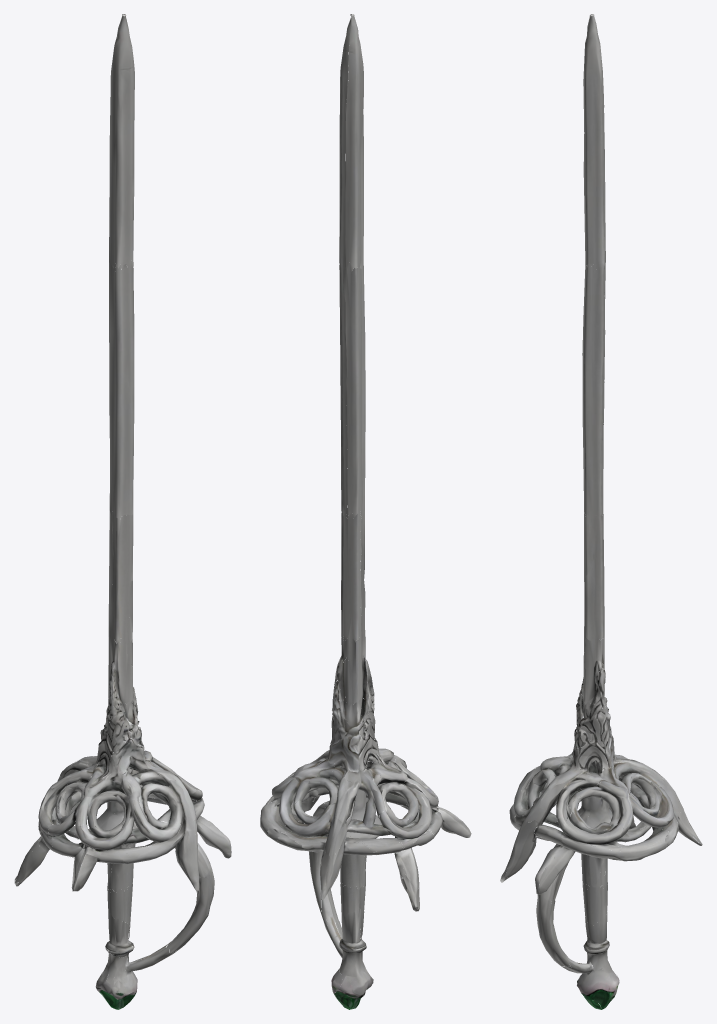
The model's file is MikaGaleRapier_L20.glb.
The picture shows the model from 3 angles, left to right: view 1: azimuth 30°, elevation 25°; view 2: azimuth 150°, elevation 25°; view 3: azimuth 270°, elevation 25°; orthographic projection.
Visible parts, largest first — view 1: Weapon; view 2: Weapon; view 3: Weapon.
Part boxes in pixels (<box>): Weapon: <box>14,14,231,1009</box>; Weapon: <box>260,14,471,1009</box>; Weapon: <box>500,14,702,1009</box>.
Bounding box in the file's own units: 0.1774 × 0.9982 × 0.1843.
1 material, 1 textured.
